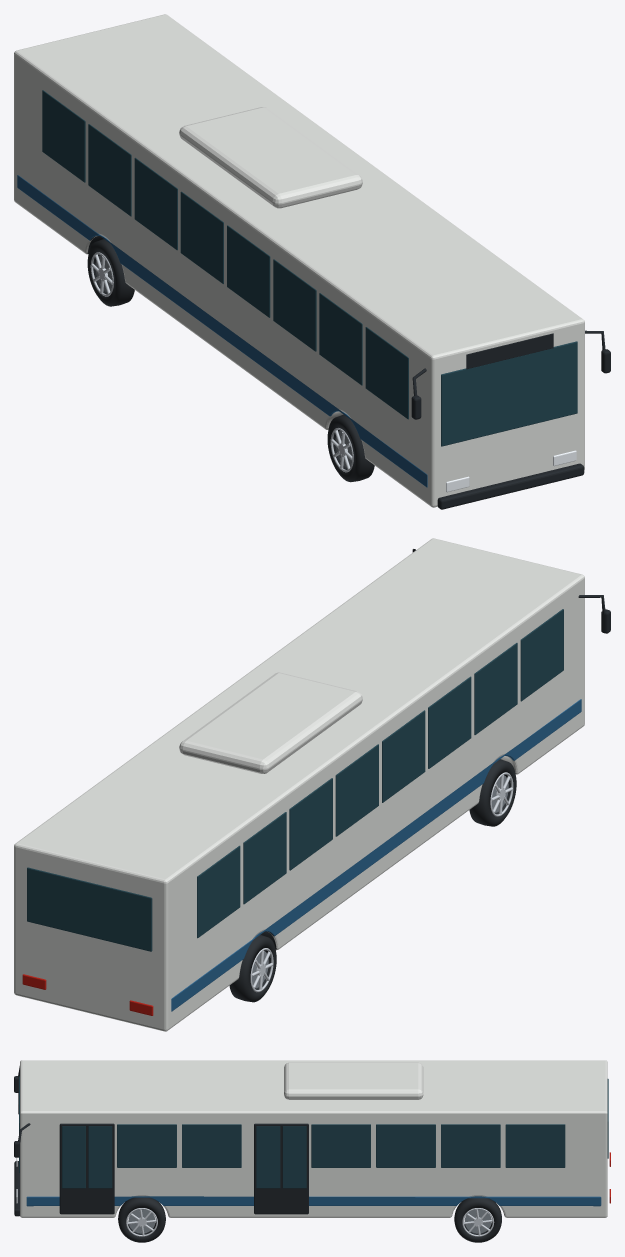
File: city-bus-source.glb
3 renders of one model, top to bottom at view 1: azimuth 30°, elevation 25°; view 2: azimuth 150°, elevation 25°; view 3: azimuth 270°, elevation 25°, orthographic. The views are drawn at different scales.
Visible parts, largest first — view 1: Bus body, Roof HVAC, Front windscreen, Lower livery stripe, Side window, Side window.002, Side window.003, Side window.006, Side window.007, Side window.001, Side window.004, Side window.005 (+4 smaller); view 2: Bus body, Roof HVAC, Rear window, Lower livery stripe, Side window.006, Side window.004, Side window, Side window.002, Side window.005, Side window.007, Side window.001, Side window.003 (+2 smaller); view 3: Bus body, Roof HVAC, Lower livery stripe, Side window.013, Side window.008, Side window.009, Side window.010, Side window.011, Side window.012, Passenger door, Passenger door.001, Door glazing.002 (+8 smaller).
Part boxes in pixels (box(x1,y1,x2,y2)): Bus body: box(14, 14, 584, 507); Roof HVAC: box(179, 107, 362, 208); Front windscreen: box(441, 341, 577, 446); Lower livery stripe: box(17, 175, 427, 487); Side window: box(365, 327, 408, 419); Side window.002: box(273, 259, 316, 351); Side window.003: box(227, 225, 270, 317); Side window.006: box(88, 124, 131, 216); Side window.007: box(42, 90, 85, 182); Side window.001: box(319, 293, 362, 385); Side window.004: box(180, 191, 223, 283); Side window.005: box(134, 157, 177, 250); Bus body: box(14, 538, 584, 1031); Roof HVAC: box(179, 672, 362, 773); Rear window: box(27, 867, 152, 951); Lower livery stripe: box(171, 699, 581, 1011); Side window.006: box(243, 812, 286, 904); Side window.004: box(335, 744, 378, 836); Side window: box(520, 609, 563, 701); Side window.002: box(428, 676, 471, 768); Side window.005: box(289, 778, 332, 870); Side window.007: box(197, 845, 240, 938); Side window.001: box(474, 643, 517, 734); Side window.003: box(382, 710, 425, 802); Bus body: box(20, 1060, 607, 1217); Roof HVAC: box(284, 1062, 423, 1099); Lower livery stripe: box(26, 1196, 601, 1206); Side window.013: box(505, 1124, 565, 1167); Side window.008: box(117, 1124, 176, 1167); Side window.009: box(182, 1124, 241, 1167); Side window.010: box(311, 1124, 370, 1167); Side window.011: box(376, 1124, 435, 1167); Side window.012: box(441, 1124, 500, 1167); Passenger door: box(59, 1123, 114, 1214); Passenger door.001: box(254, 1123, 308, 1214); Door glazing.002: box(256, 1126, 280, 1188).
Size of the model in its own units: 3.2 by 3.11 by 11.98.
